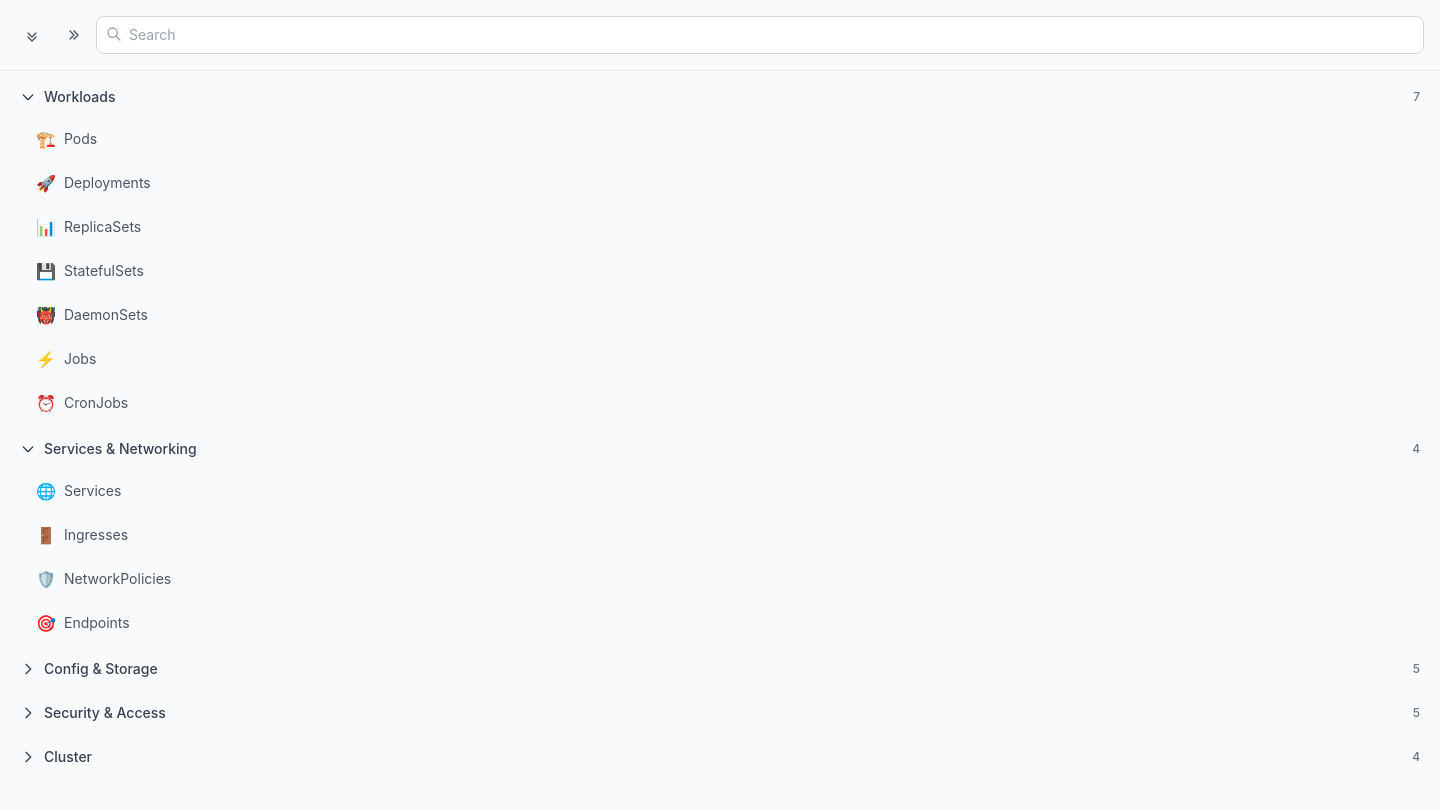
it: ResourceTree › searchFilter › should hide categories with no matching resources
Type "pod" into the field with placeholder "Search".
click(760, 35); type("pod")  # box [96,16,1424,54]
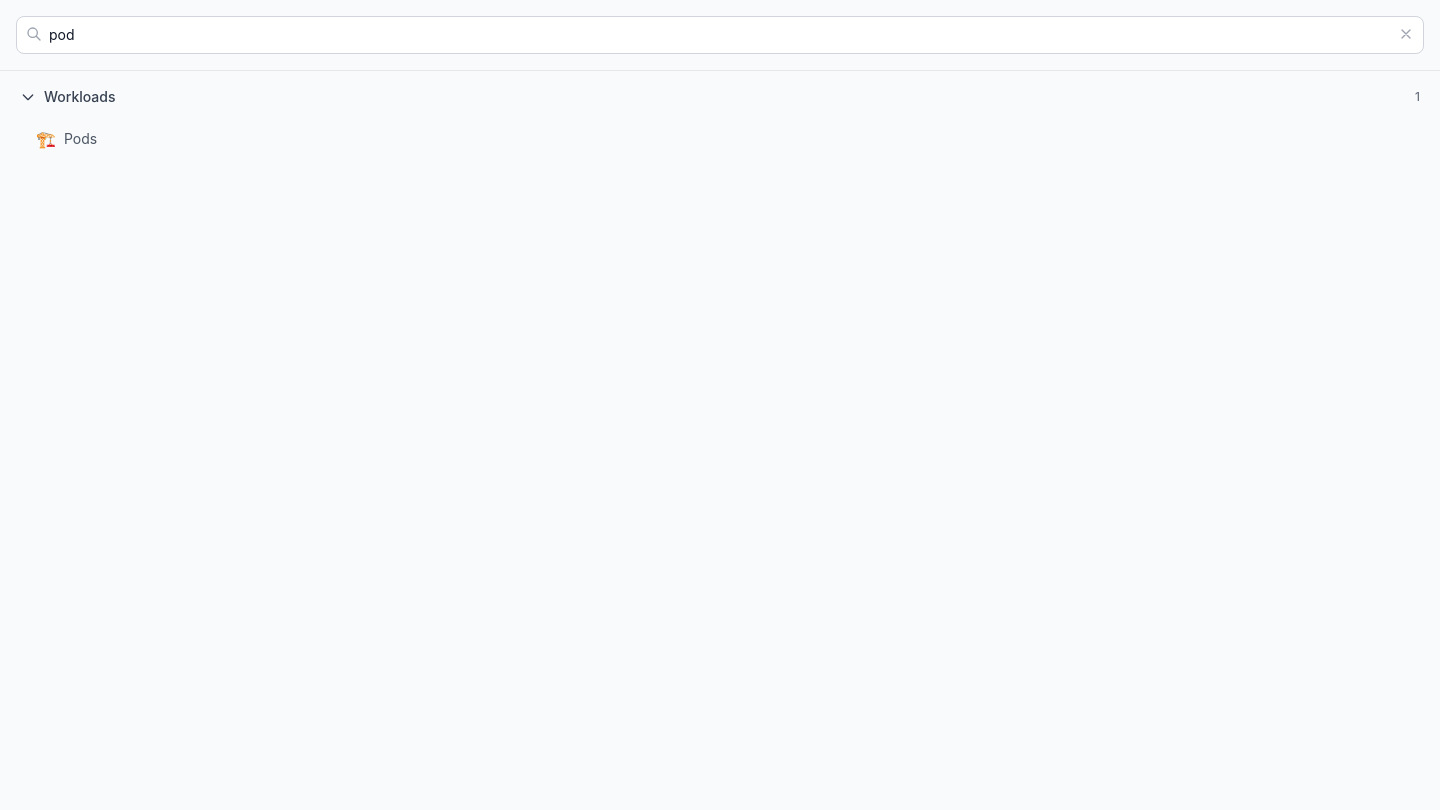
Expected: the text "Workloads" is shown, [44,87,116,107]
Result: the button "Services & Networking" is gone
